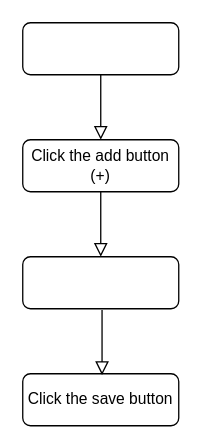
The diagram is 202 pixels wide and 448 high, and some of its shapes have lost their labels. The box of each missing label's shape, as (x1, y1, x2, y2) in pixels:
Enter name and email or phone number: (21, 255, 179, 309)
Open the contacts app: (21, 21, 179, 75)
